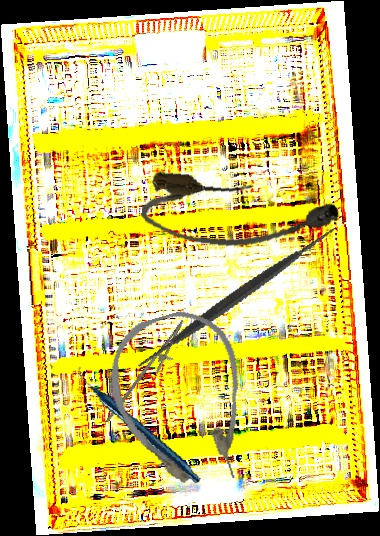Cannula: (94, 299, 269, 505), (138, 169, 342, 261)
Handpiece: (76, 346, 202, 503)
Needle Holder: (104, 311, 194, 436)
Spatula Surgical: (121, 184, 353, 411)
